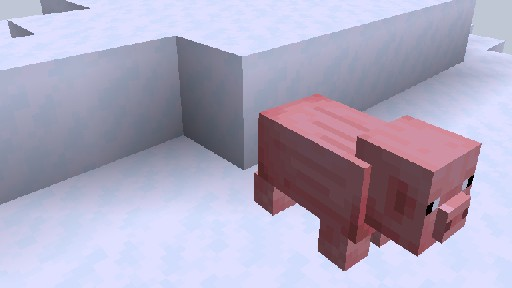pig: (253, 92, 481, 287)
